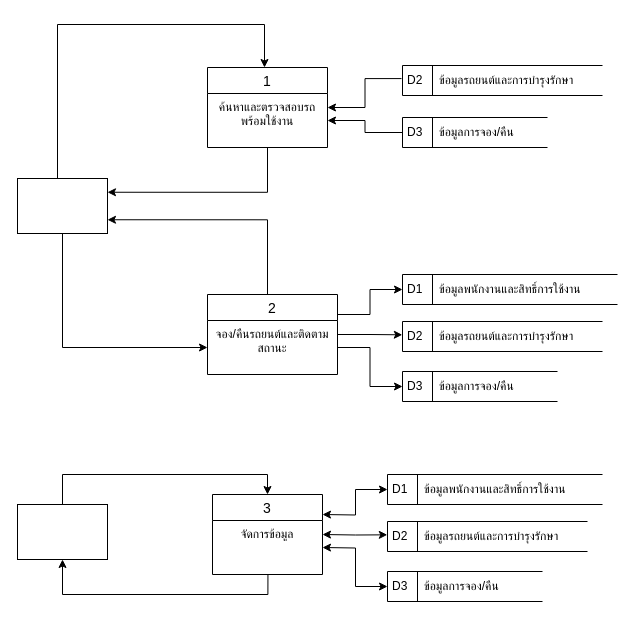
This 635x620 diagram has some shape labels left out. The shapes that lost their labels are listed below. From the top down, each one's box as (x1, y1, x2, y2) in pixels, then its label:
(16, 178, 108, 234): พนักงาน/สมาชิกระบบ
(16, 504, 108, 560): ผู้ดูแลระบบ / Admin
